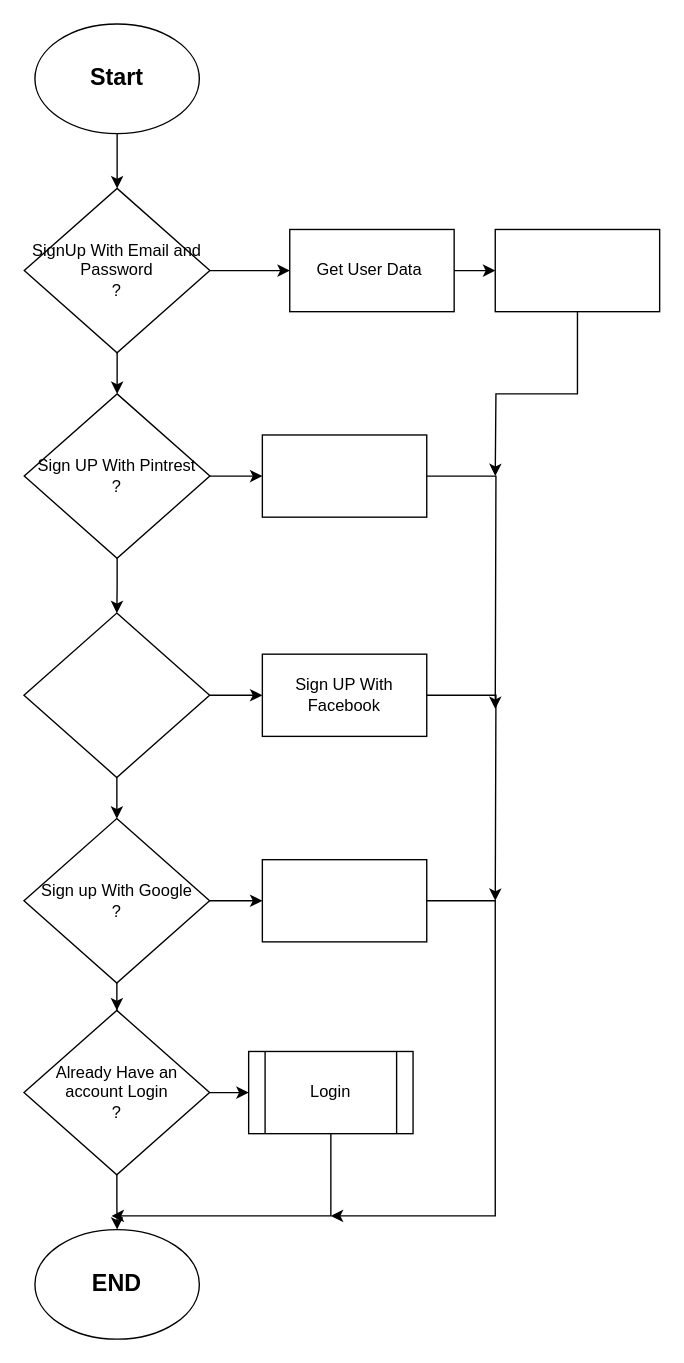
Some shapes in this 684 by 1363 pixel diagram are drawn without their labels. The shapes that lost their labels are listed below. From the top down, each one's centre as x and y in pixels, then its label:
pixel 577 270: Create user account with firebase auth
pixel 344 475: Sign Up With Pintrest
pixel 116 694: Sign Up With Facebook ?
pixel 344 900: SignUp With Google
